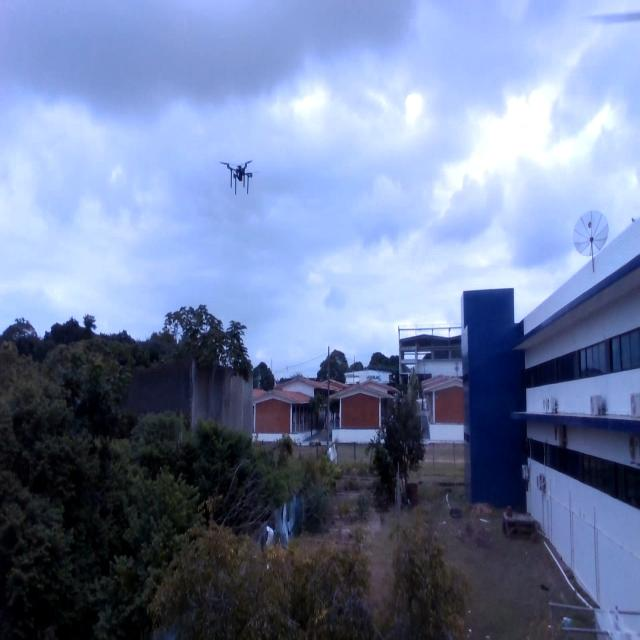-uav-: (217, 144, 260, 210)
